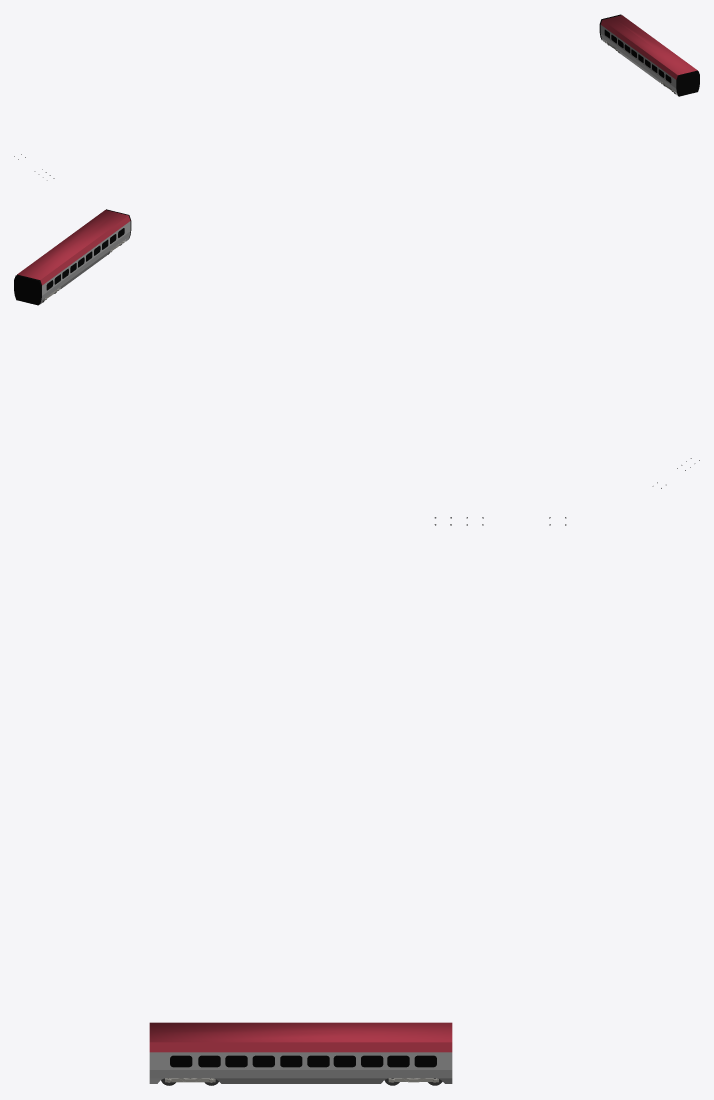
The model's file is thalys_car3.gltf.
3 views of the same model, one above another, from view 1: azimuth 30°, elevation 25°; view 2: azimuth 150°, elevation 25°; view 3: azimuth 270°, elevation 25° (orthographic). The views are drawn at different scales.
Parts seen in each view (by area): view 1: Sketchup; view 2: Sketchup; view 3: Sketchup.
Part boxes in pixels (box(x1,y1,x2,y2)): Sketchup: box(599, 14, 699, 96); Sketchup: box(14, 209, 131, 305); Sketchup: box(149, 1022, 452, 1083).
Bounding box in the file's own units: 89.78 × 3.39 × 28.01.
